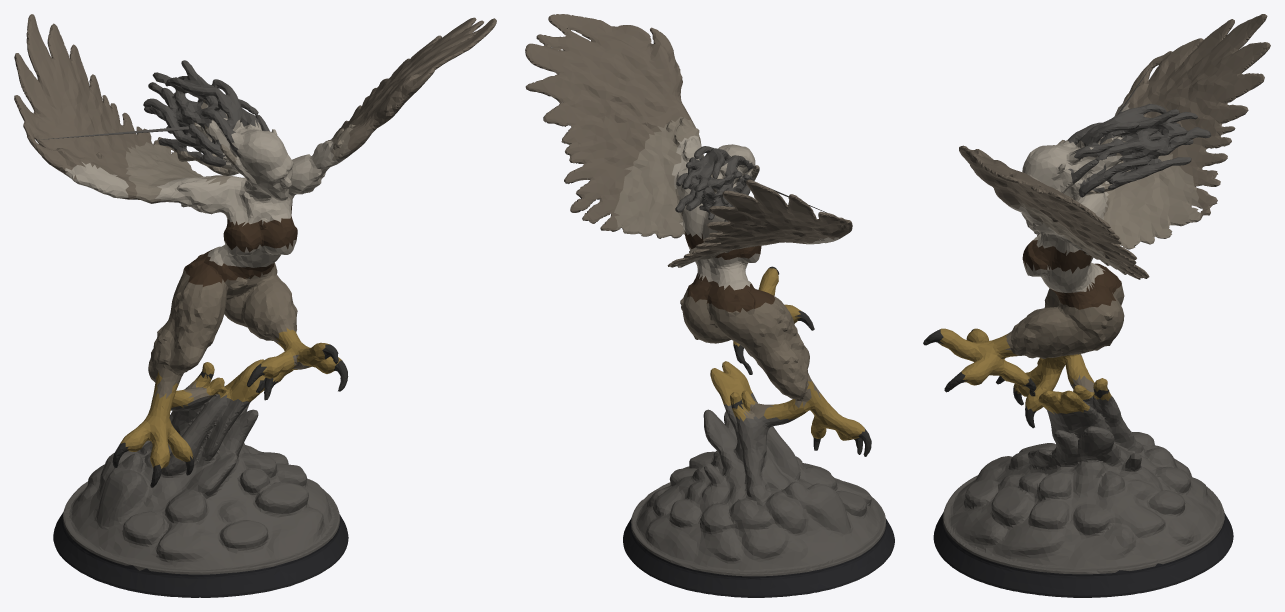
File: harpia.glb
The picture shows the model from 3 angles, left to right: view 1: azimuth 30°, elevation 25°; view 2: azimuth 150°, elevation 25°; view 3: azimuth 270°, elevation 25°; orthographic projection. The views are drawn at different scales.
Visible parts, largest first — view 1: tmpkqakoa37.ply; view 2: tmpkqakoa37.ply; view 3: tmpkqakoa37.ply.
Part boxes in pixels (x1,y1,x2,y2): tmpkqakoa37.ply: (14,14,496,597); tmpkqakoa37.ply: (525,14,894,597); tmpkqakoa37.ply: (923,14,1270,597).
Size of the model in its own units: 1.71 by 1.96 by 1.27.
